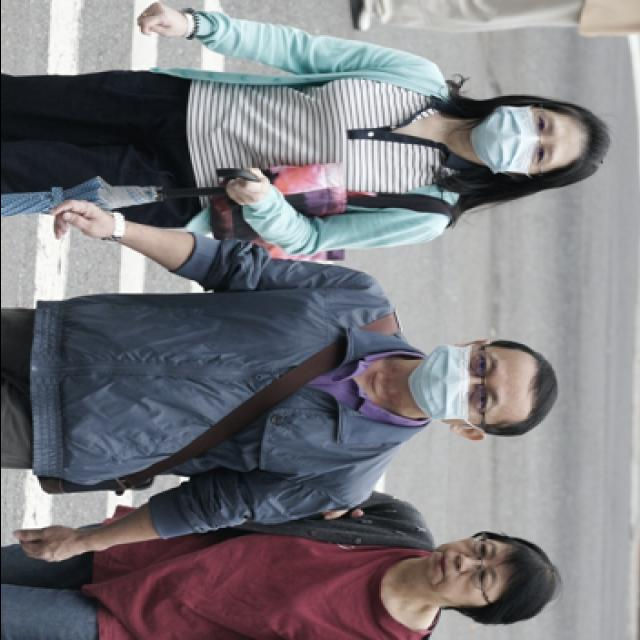mask: (409, 341, 502, 427), (472, 106, 564, 178)
no_mask: (426, 538, 500, 608)
